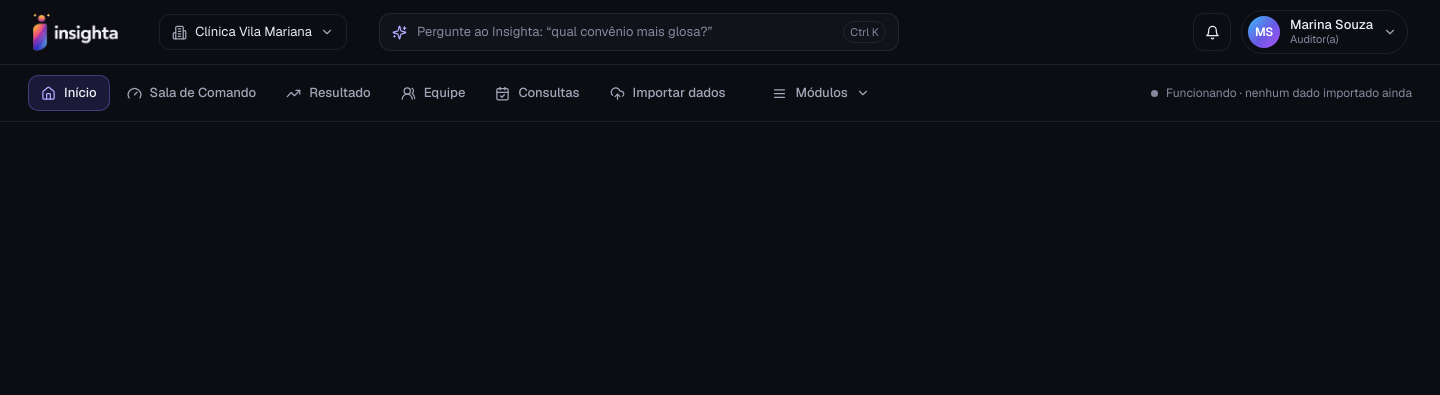
Scenario: TopBar › auditor vê logs de auditoria mas não gestão de usuários
Click the button with aria-label "Conta e configurações" at (1325, 32), box [1241, 10, 1408, 54]
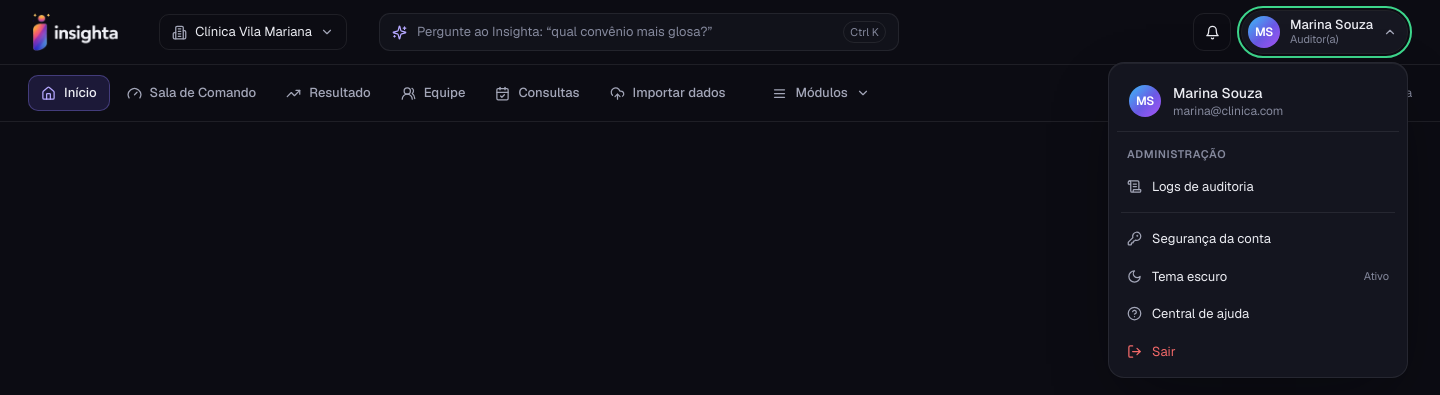
Check: the link "Logs de auditoria" is shown, box [1127, 178, 1254, 194]
